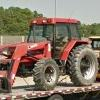Tractor: (9, 13, 100, 86)
